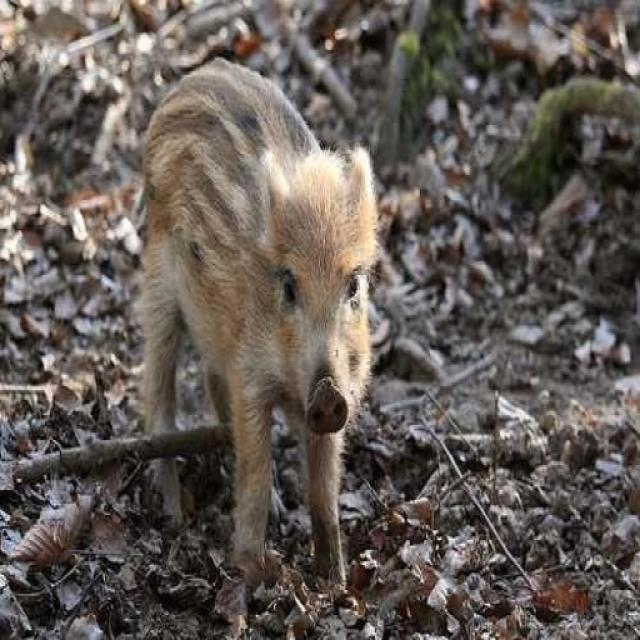pig: (107, 44, 391, 584)
